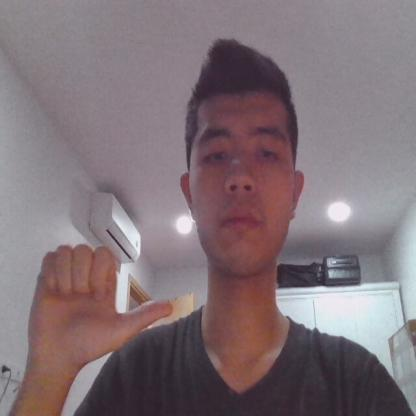left: (27, 243, 173, 361)
